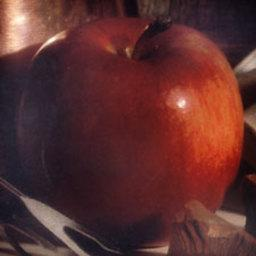apple: (7, 14, 249, 251)
